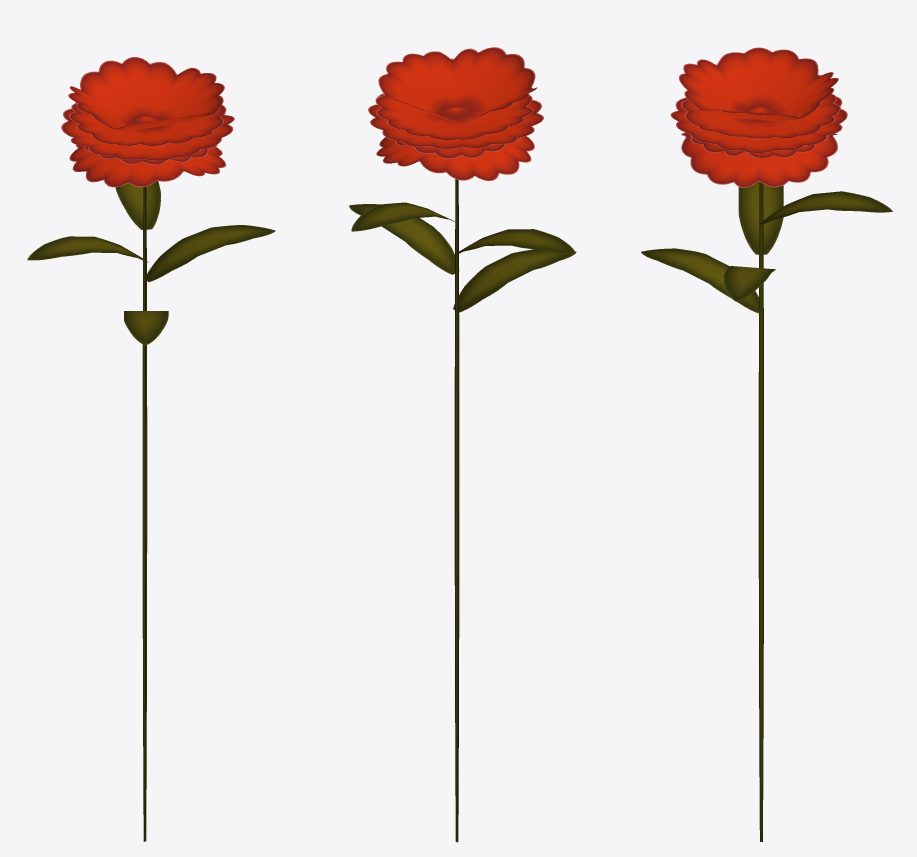
The model's file is SM_flower_02.glb.
3 renders of one model, left to right at view 1: azimuth 30°, elevation 25°; view 2: azimuth 150°, elevation 25°; view 3: azimuth 270°, elevation 25°, orthographic.
Parts seen in each view (by area): view 1: SM_flower_02; view 2: SM_flower_02; view 3: SM_flower_02.
Part boxes in pixels (bbox=[...]): SM_flower_02: bbox=[27, 57, 275, 841]; SM_flower_02: bbox=[349, 47, 576, 842]; SM_flower_02: bbox=[641, 47, 892, 841].
Bounding box in the file's own units: 0.2971 × 0.9041 × 0.2869.
Materials: 1 (1 with a texture image).
